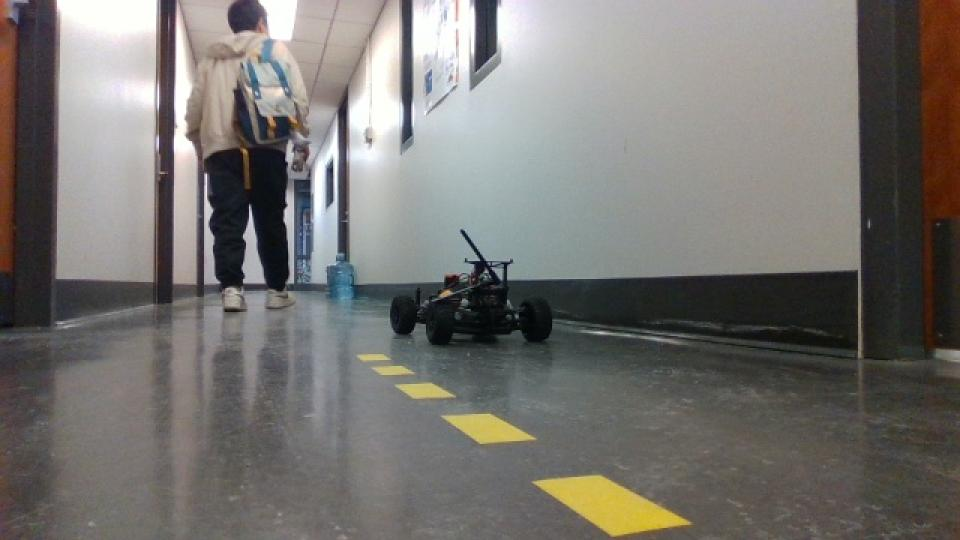car: (385, 226, 555, 348)
